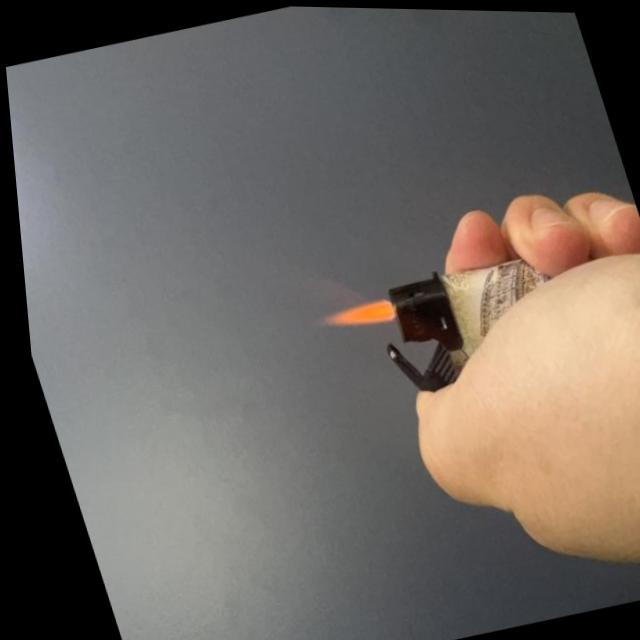Fire: (304, 284, 396, 338)
